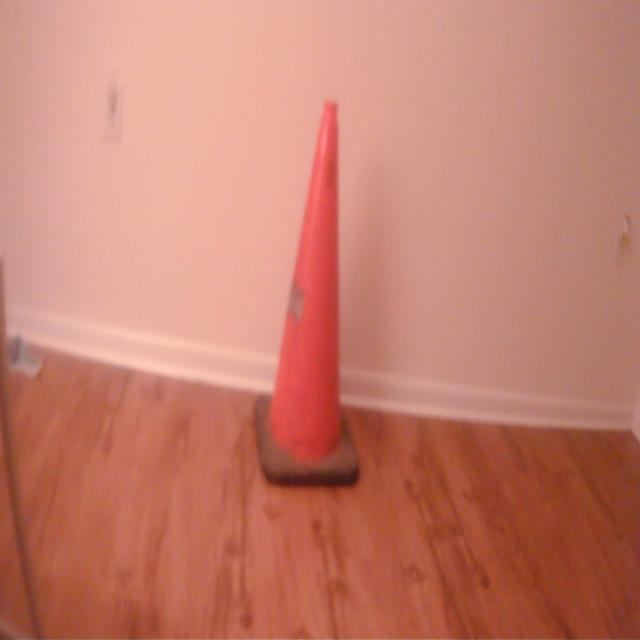traffic cone: (252, 94, 367, 502)
